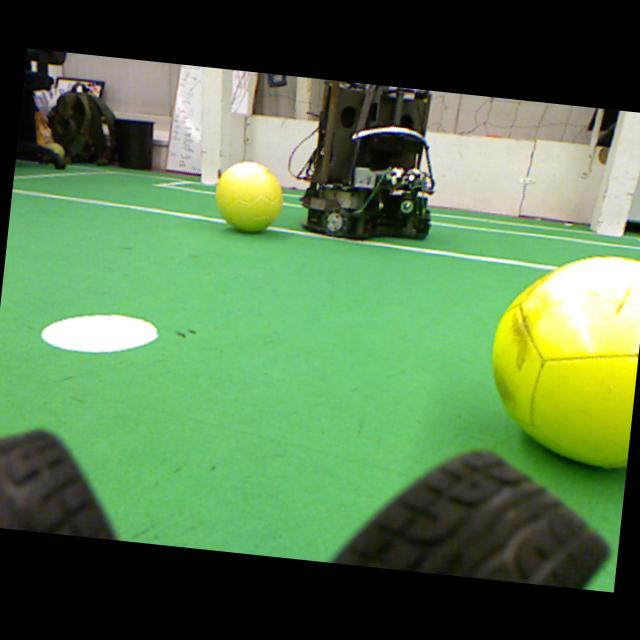ball: (492, 257, 640, 467), (215, 161, 283, 231)
goal: (597, 111, 640, 236), (200, 66, 222, 185)
robot: (296, 79, 435, 241)
